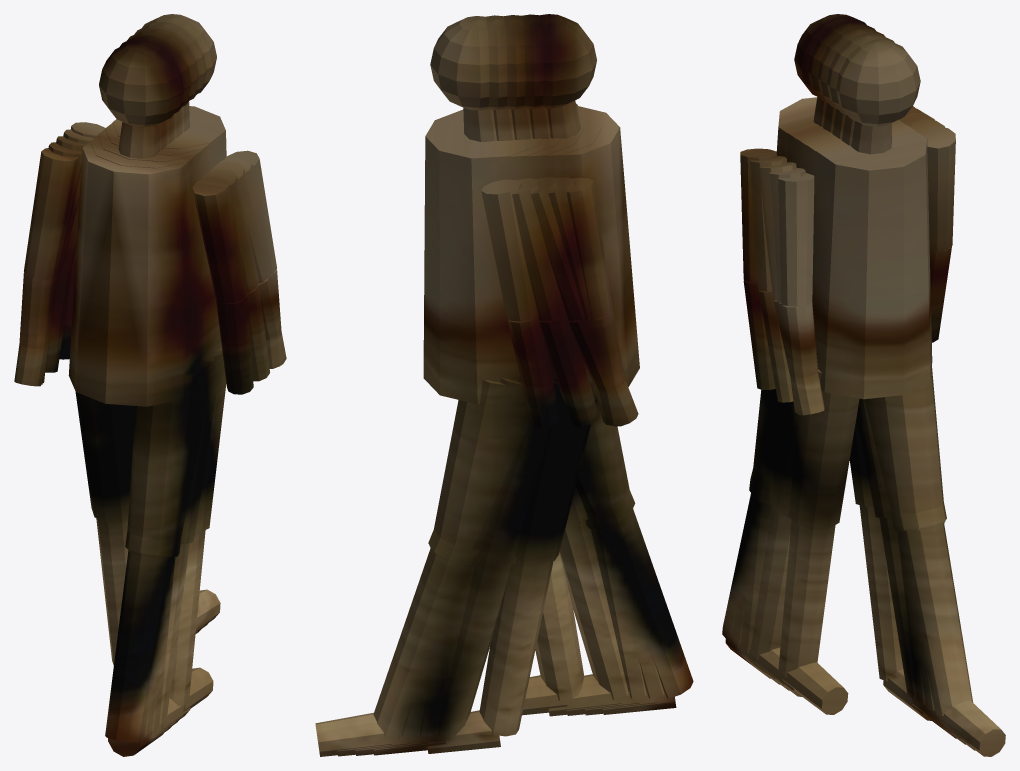
File: loft-walker-near.glb
3 renders of one model, left to right at view 1: azimuth 30°, elevation 25°; view 2: azimuth 150°, elevation 25°; view 3: azimuth 270°, elevation 25°, orthographic. The views are drawn at different scales.
Visible parts, largest first — view 1: figure1; view 2: figure1; view 3: figure1.
Boxes of the visible parts, bbox=[...] form: figure1: bbox=[14, 14, 286, 756]; figure1: bbox=[315, 14, 693, 756]; figure1: bbox=[722, 14, 1005, 756].
Bounding box in the file's own units: 0.6896 × 1.74 × 0.6682.
1 material, 1 textured.
